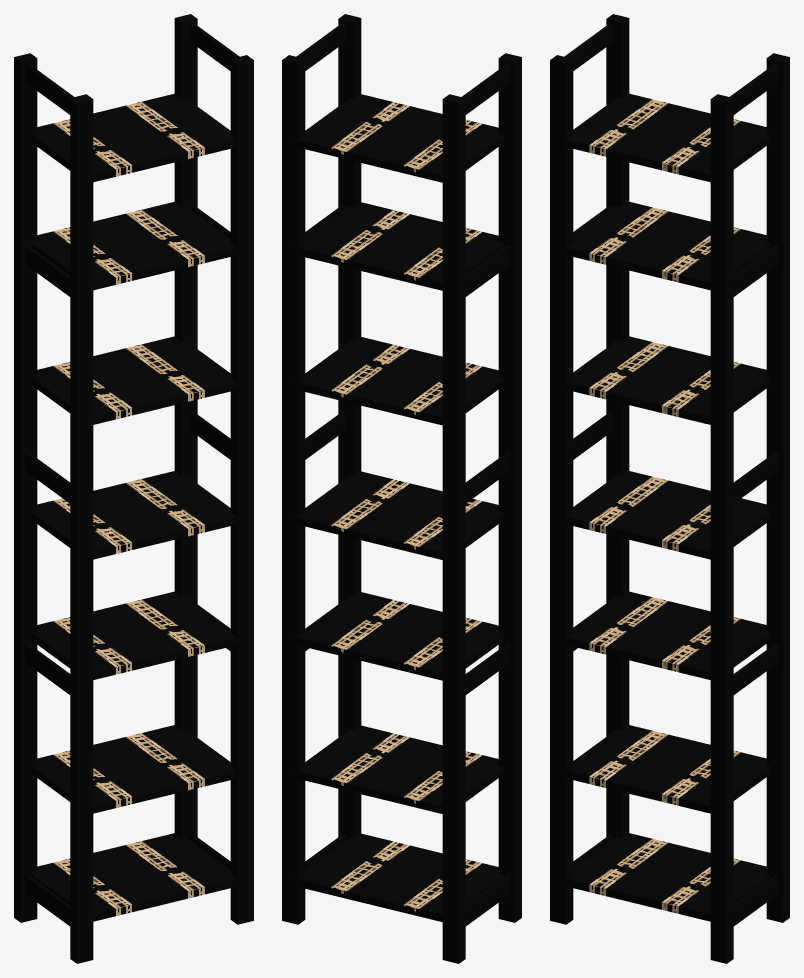
Rendered from pinewoodRackFullHeightHalfWidth.obj.
The picture shows the model from 3 angles, left to right: view 1: azimuth 30°, elevation 25°; view 2: azimuth 150°, elevation 25°; view 3: azimuth 330°, elevation 25°; orthographic projection.
Visible parts, largest first — view 1: piece_3_Cube_1_17, piece_2_Cube_1_9, piece_1_Cube_1_1, piece_4_Cube_1_25, piece_7_Cube_1_49, piece_6_Cube_1_41, piece_11_Cube_1_81, piece_9_Cube_1_65, piece_8_Cube_1_57, piece_10_Cube_1_73, piece_5_Cube_1_33, piece_20_Cube_1_153 (+6 smaller); view 2: piece_1_Cube_1_1, piece_4_Cube_1_25, piece_3_Cube_1_17, piece_2_Cube_1_9, piece_6_Cube_1_41, piece_7_Cube_1_49, piece_11_Cube_1_81, piece_9_Cube_1_65, piece_8_Cube_1_57, piece_10_Cube_1_73, piece_5_Cube_1_33, piece_20_Cube_1_153 (+6 smaller); view 3: piece_2_Cube_1_9, piece_3_Cube_1_17, piece_4_Cube_1_25, piece_1_Cube_1_1, piece_7_Cube_1_49, piece_6_Cube_1_41, piece_9_Cube_1_65, piece_11_Cube_1_81, piece_8_Cube_1_57, piece_10_Cube_1_73, piece_5_Cube_1_33, piece_21_Cube_1_161 (+6 smaller).
Boxes of the visible parts, left/top/right/bottom form: piece_3_Cube_1_17: left=70, top=94, right=93, bottom=963; piece_2_Cube_1_9: left=230, top=55, right=253, bottom=924; piece_1_Cube_1_1: left=14, top=53, right=37, bottom=922; piece_4_Cube_1_25: left=174, top=14, right=197, bottom=840; piece_7_Cube_1_49: left=32, top=591, right=237, bottom=679; piece_6_Cube_1_41: left=32, top=725, right=237, bottom=813; piece_11_Cube_1_81: left=32, top=93, right=237, bottom=182; piece_9_Cube_1_65: left=32, top=336, right=237, bottom=424; piece_8_Cube_1_57: left=32, top=471, right=237, bottom=559; piece_10_Cube_1_73: left=32, top=202, right=237, bottom=290; piece_5_Cube_1_33: left=32, top=833, right=237, bottom=921; piece_20_Cube_1_153: left=25, top=63, right=73, bottom=114; piece_1_Cube_1_1: left=442, top=94, right=465, bottom=963; piece_4_Cube_1_25: left=282, top=55, right=305, bottom=924; piece_3_Cube_1_17: left=498, top=53, right=521, bottom=922; piece_2_Cube_1_9: left=338, top=14, right=361, bottom=840; piece_6_Cube_1_41: left=294, top=725, right=503, bottom=815; piece_7_Cube_1_49: left=294, top=592, right=503, bottom=681; piece_11_Cube_1_81: left=294, top=94, right=503, bottom=183; piece_9_Cube_1_65: left=294, top=337, right=503, bottom=426; piece_8_Cube_1_57: left=294, top=471, right=503, bottom=561; piece_10_Cube_1_73: left=294, top=202, right=503, bottom=291; piece_5_Cube_1_33: left=294, top=833, right=503, bottom=923; piece_20_Cube_1_153: left=462, top=63, right=510, bottom=114; piece_2_Cube_1_9: left=710, top=94, right=733, bottom=963; piece_3_Cube_1_17: left=550, top=55, right=573, bottom=924; piece_4_Cube_1_25: left=766, top=53, right=789, bottom=922; piece_1_Cube_1_1: left=606, top=14, right=629, bottom=839; piece_7_Cube_1_49: left=566, top=591, right=770, bottom=679; piece_6_Cube_1_41: left=566, top=725, right=770, bottom=813; piece_9_Cube_1_65: left=566, top=336, right=770, bottom=424; piece_11_Cube_1_81: left=566, top=93, right=770, bottom=182; piece_8_Cube_1_57: left=566, top=471, right=770, bottom=559; piece_10_Cube_1_73: left=566, top=202, right=770, bottom=290; piece_5_Cube_1_33: left=566, top=833, right=770, bottom=921; piece_21_Cube_1_161: left=730, top=63, right=778, bottom=114.
Size of the model in its own units: 48.8 by 227 by 30.17.
